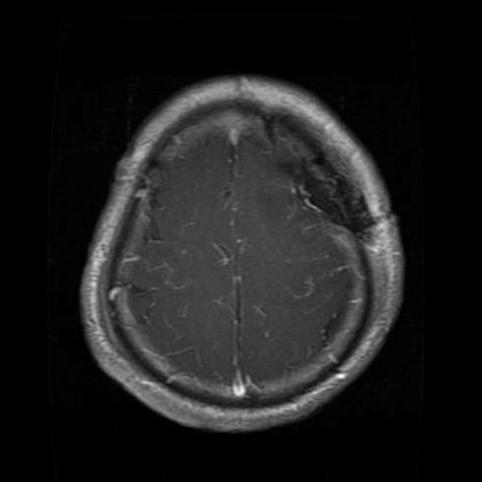Tumour-Glioma: (284, 158, 348, 240)
